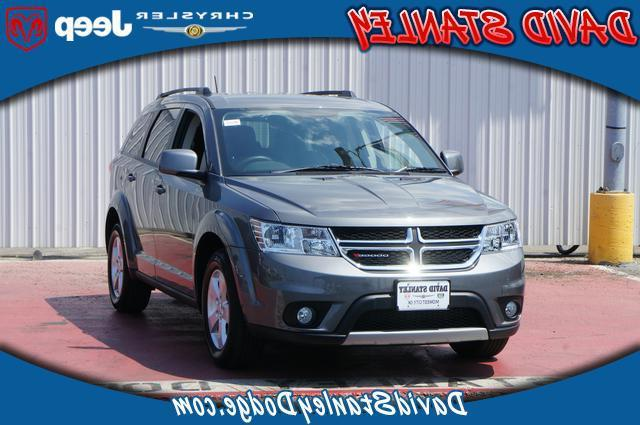Car: (74, 60, 570, 378)
